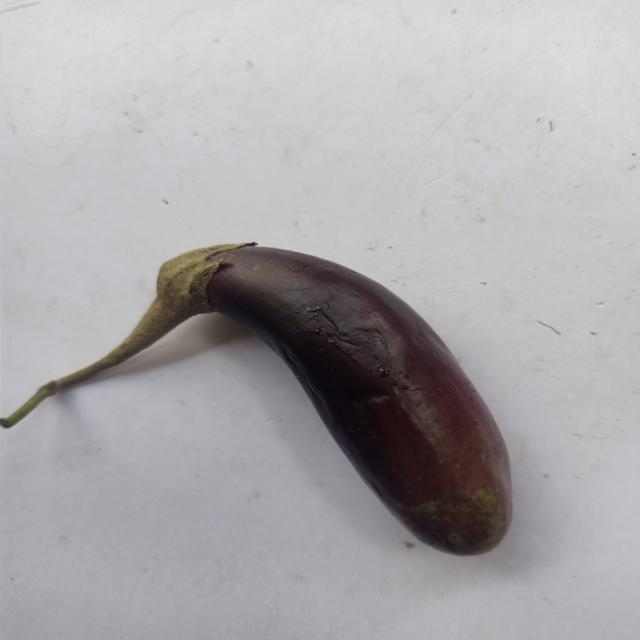Brinjal: (0, 216, 558, 568)
